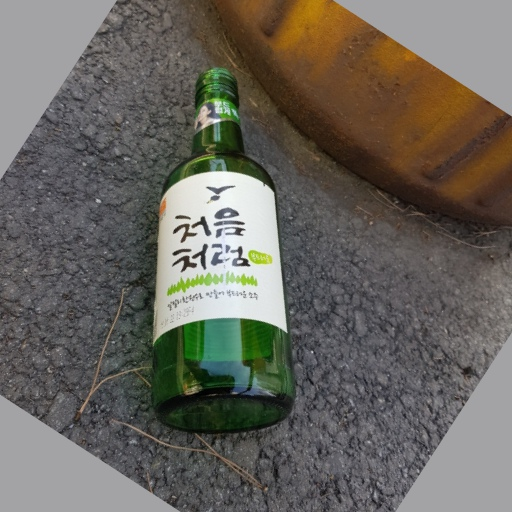Glass_0: (145, 63, 299, 435)
